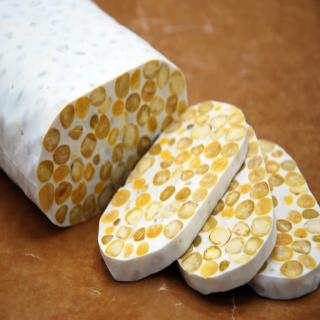Tempe: (1, 1, 189, 228), (98, 100, 250, 283), (177, 119, 278, 296), (248, 138, 320, 301)
